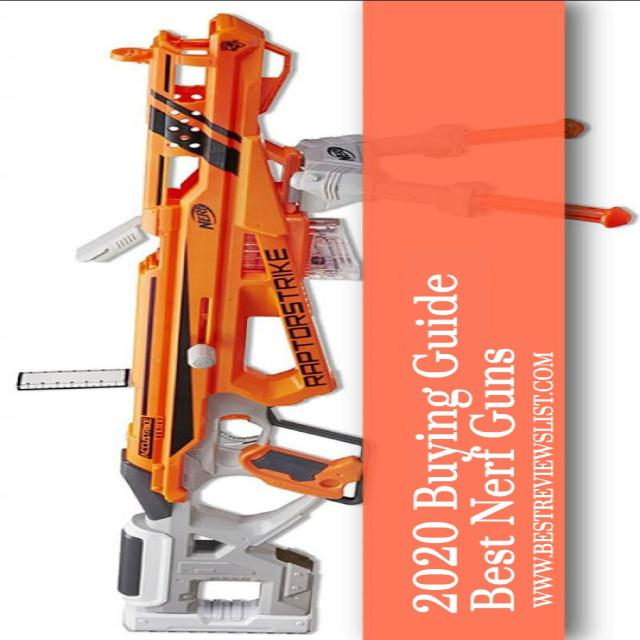Nerf gun: (58, 15, 640, 636)
